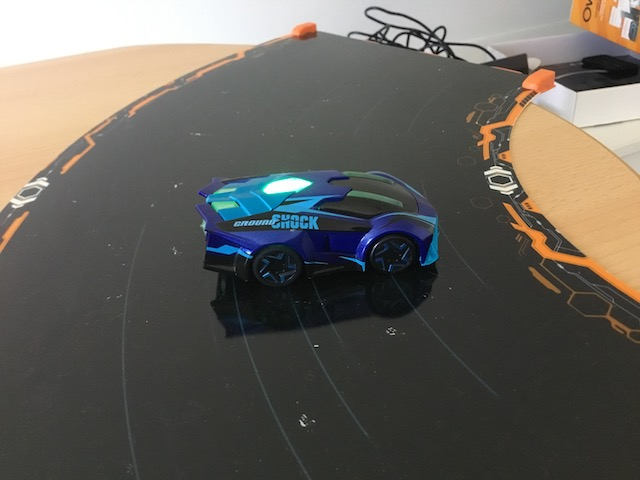car-blue: (192, 164, 442, 294)
